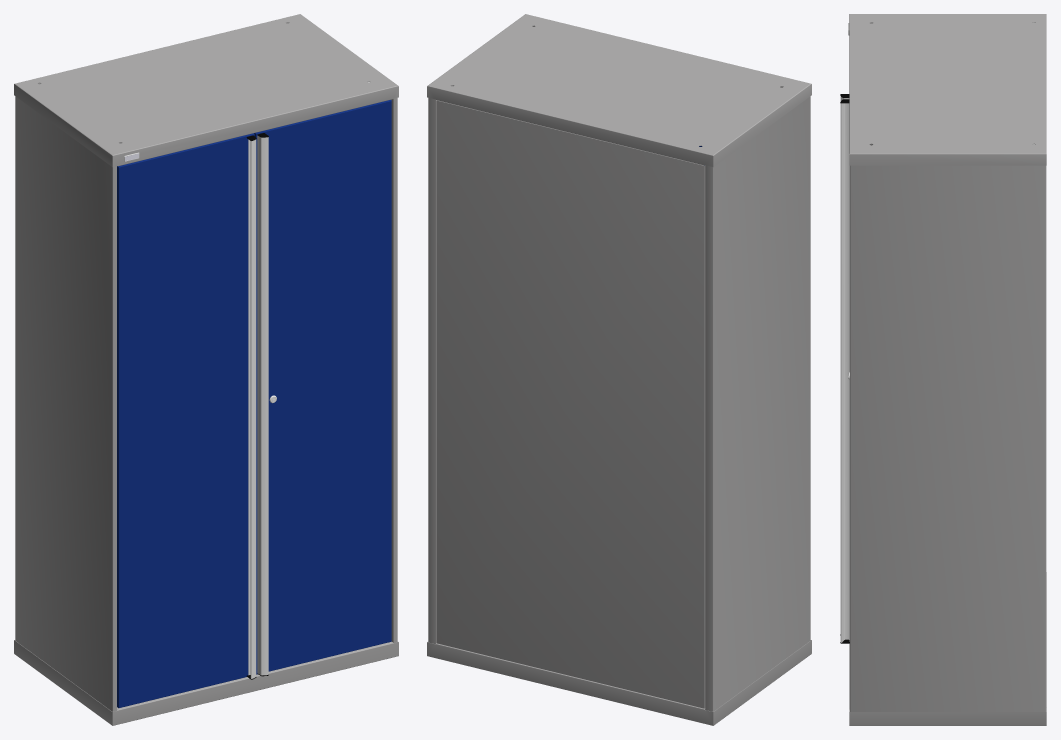
The picture shows the model from 3 angles, left to right: view 1: azimuth 30°, elevation 25°; view 2: azimuth 150°, elevation 25°; view 3: azimuth 270°, elevation 25°; orthographic projection.
Parts seen in each view (by area): view 1: FbxMesh (×4); view 2: FbxMesh; view 3: FbxMesh (×2).
Boxes of the visible parts, box(x1,y1,x2,y2) form: FbxMesh (×4): box(14, 14, 398, 725); FbxMesh: box(427, 14, 811, 725); FbxMesh (×2): box(840, 14, 1046, 725).
Bounding box in the file's own units: 105 × 200 × 65.4.
